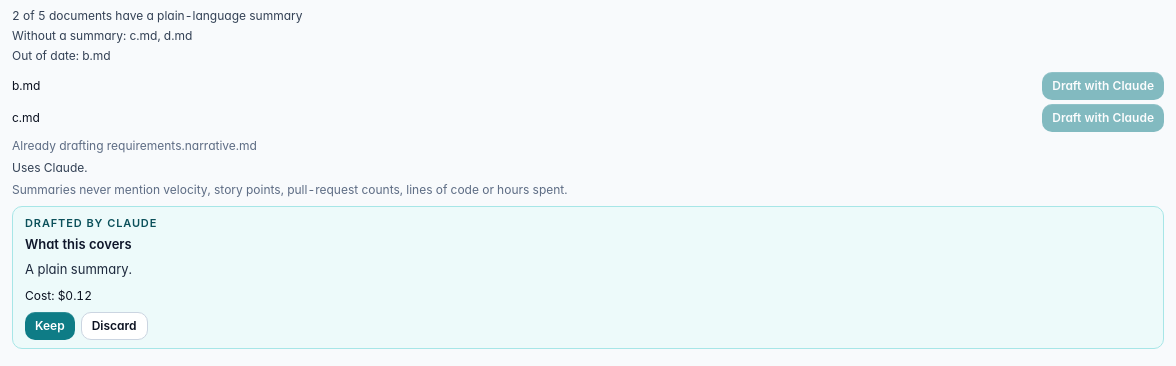
it: NarrativeCoveragePanel: running one › recovers a waiting candidate and lets the person keep it
Check: the text "2 of 5 documents have a plain-language summary" is shown, box [12,8,302,23]
Check: the element with test id "candidate-text" is shown, box [25,236,132,277]
What coordinates should you click on to do the following:
click the button with test id "draft-keep"
I would click on:
 (50, 326)
Its box is [25,312,75,340].
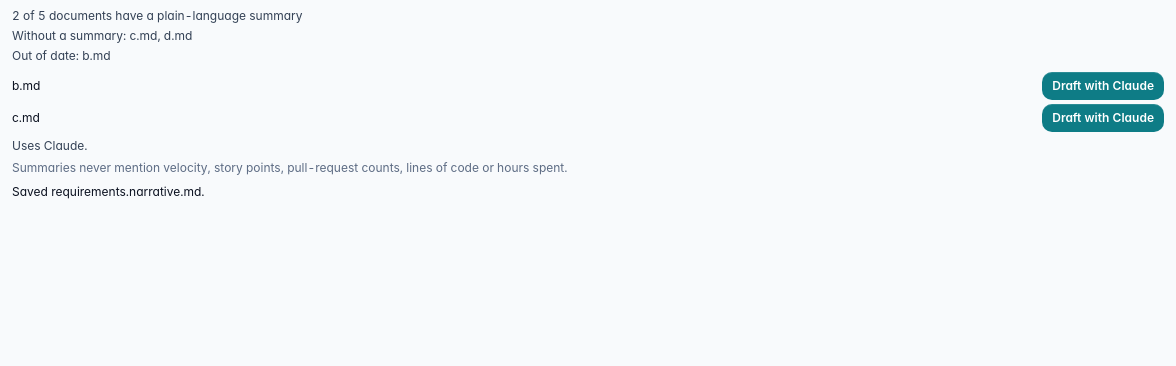
Check: the text "Saved requirements.narrative.md." is shown, box [12,184,204,199]
